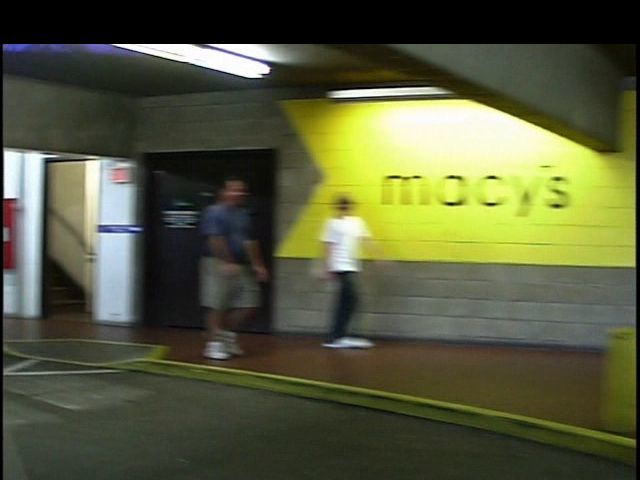person: (178, 170, 265, 364), (287, 187, 372, 361)
